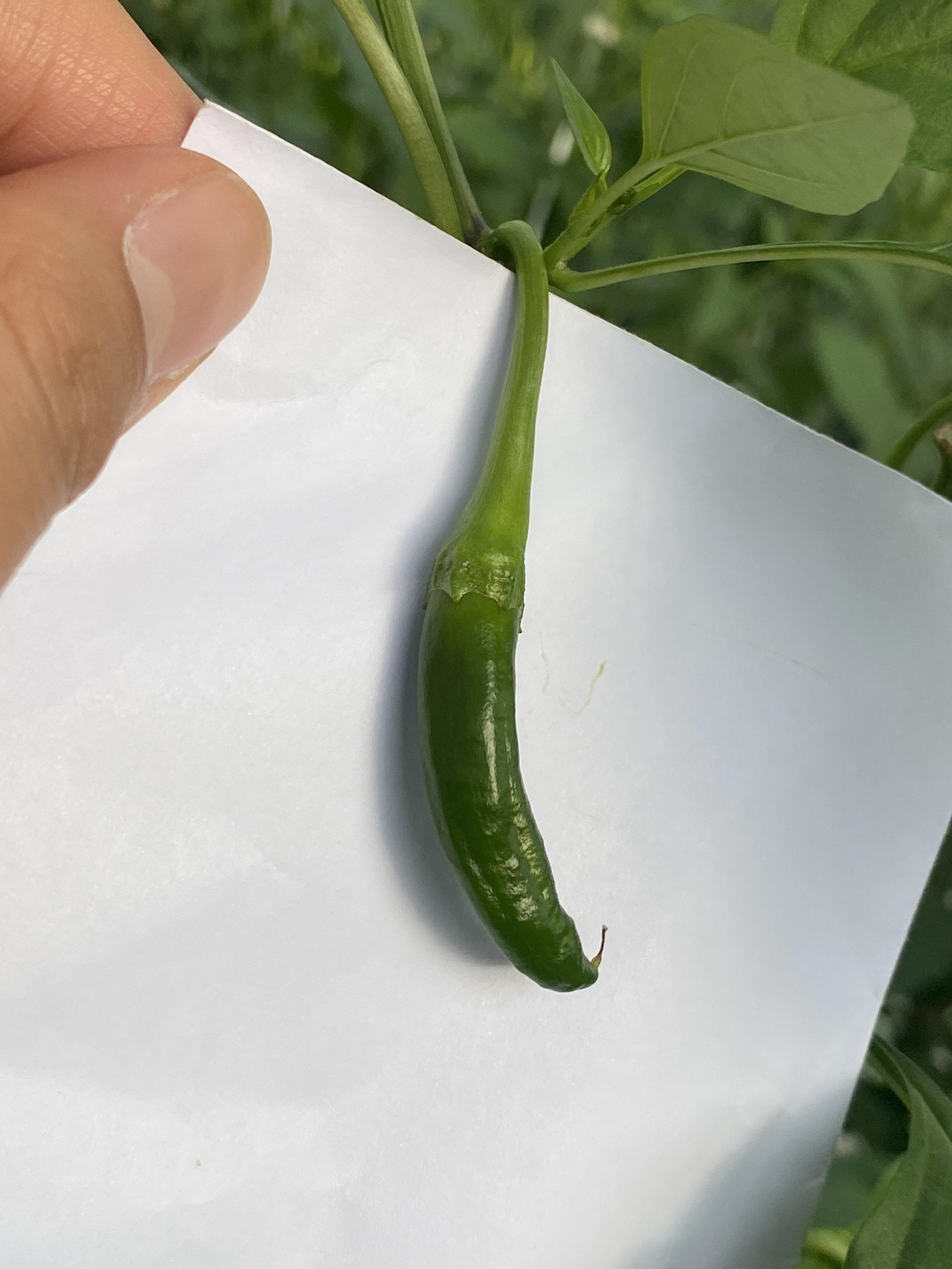Buah Cabai Sehat: (412, 488, 610, 995)
